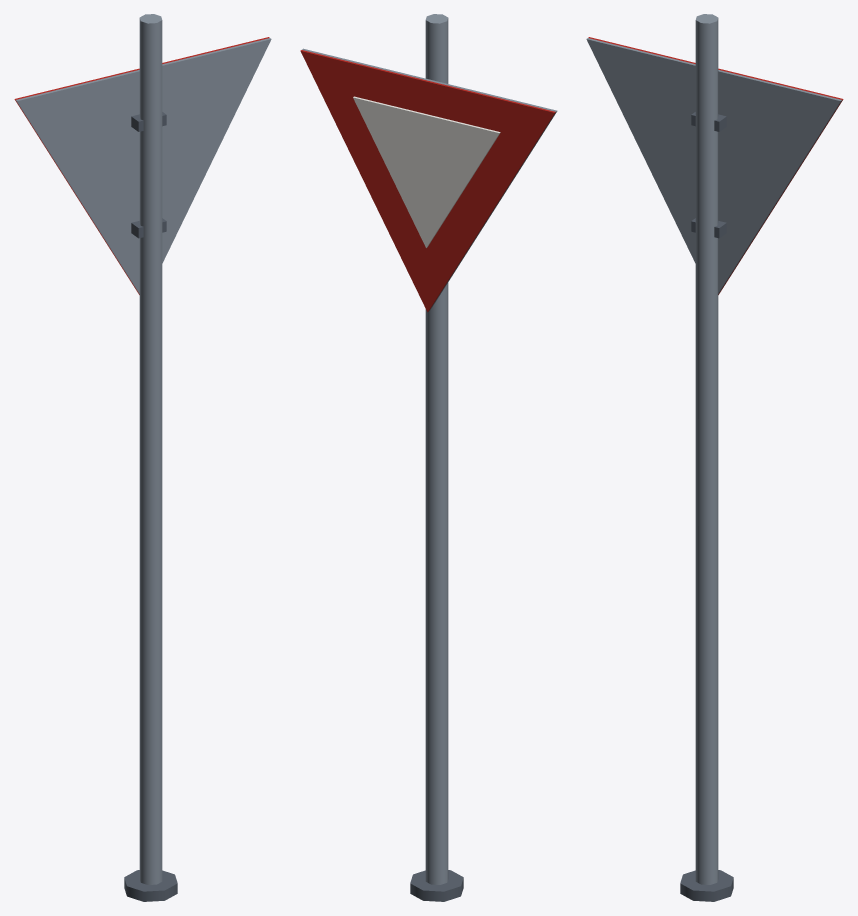
The model's file is sign_yield.glb.
3 renders of one model, left to right at view 1: azimuth 30°, elevation 25°; view 2: azimuth 150°, elevation 25°; view 3: azimuth 330°, elevation 25°, orthographic.
Visible parts, largest first — view 1: sign_yield; view 2: sign_yield; view 3: sign_yield.
Boxes of the visible parts, <box> form: sign_yield: <box>14,14,271,901</box>; sign_yield: <box>300,14,557,901</box>; sign_yield: <box>586,14,843,901</box>.
Bounding box in the file's own units: 0.9007 × 2.95 × 0.17.
